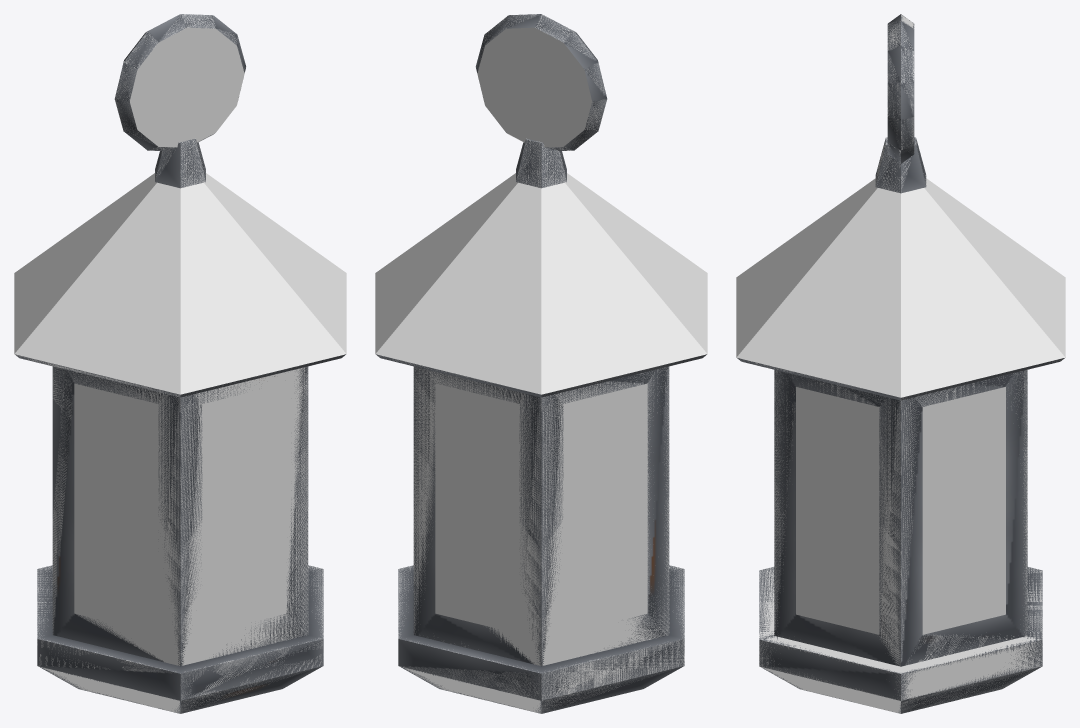
File: iron_lantern.glb
3 views of the same model, side by side, from view 1: azimuth 30°, elevation 25°; view 2: azimuth 150°, elevation 25°; view 3: azimuth 270°, elevation 25° (orthographic).
Parts seen in each view (by area): view 1: COL_iron_lantern_01, COL_iron_lantern_05, frame, base, COL_iron_lantern_07, COL_iron_lantern_00, ring, knob, roof, COL_iron_lantern_06; view 2: COL_iron_lantern_01, COL_iron_lantern_05, frame, base, COL_iron_lantern_07, COL_iron_lantern_00, ring, knob, roof, COL_iron_lantern_06; view 3: COL_iron_lantern_05, COL_iron_lantern_01, frame, COL_iron_lantern_00, base, ring, knob, roof, COL_iron_lantern_07.
Part boxes in pixels (left/top/right/bottom): COL_iron_lantern_01: left=52, top=366, right=308, bottom=665; COL_iron_lantern_05: left=14, top=173, right=346, bottom=397; frame: left=52, top=366, right=308, bottom=666; base: left=37, top=565, right=323, bottom=713; COL_iron_lantern_07: left=115, top=14, right=244, bottom=150; COL_iron_lantern_00: left=37, top=565, right=323, bottom=713; ring: left=114, top=14, right=245, bottom=150; knob: left=155, top=139, right=205, bottom=188; roof: left=15, top=354, right=345, bottom=397; COL_iron_lantern_06: left=155, top=138, right=205, bottom=187; COL_iron_lantern_01: left=413, top=366, right=669, bottom=665; COL_iron_lantern_05: left=375, top=173, right=707, bottom=397; frame: left=413, top=366, right=669, bottom=666; base: left=398, top=565, right=684, bottom=713; COL_iron_lantern_07: left=477, top=14, right=605, bottom=150; COL_iron_lantern_00: left=398, top=565, right=684, bottom=713; ring: left=475, top=14, right=607, bottom=150; knob: left=516, top=138, right=566, bottom=188; roof: left=376, top=354, right=706, bottom=397; COL_iron_lantern_06: left=516, top=138, right=566, bottom=187; COL_iron_lantern_05: left=736, top=178, right=1065, bottom=400; COL_iron_lantern_01: left=774, top=370, right=1027, bottom=666; frame: left=774, top=370, right=1027, bottom=666; COL_iron_lantern_00: left=759, top=567, right=1042, bottom=713; base: left=759, top=567, right=1042, bottom=713; ring: left=887, top=14, right=914, bottom=163; knob: left=875, top=137, right=926, bottom=193; roof: left=737, top=358, right=1064, bottom=400; COL_iron_lantern_07: left=887, top=14, right=914, bottom=163.
Bounding box in the file's own units: 0.26 × 0.486 × 0.2252.
Materials: 4 (4 with a texture image).
